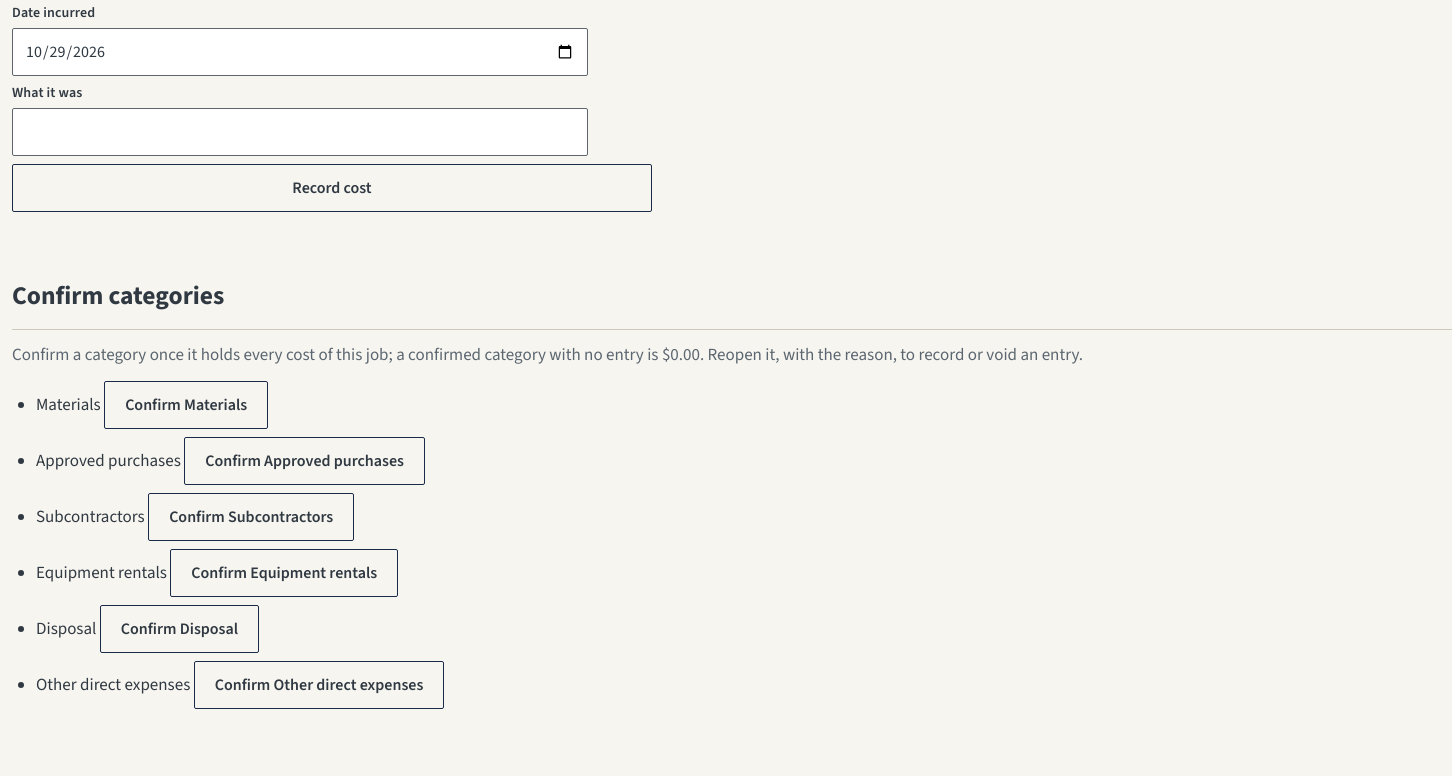
[HH-FIN-17][HH-DATA-10][T73] the job cost page › names a refusal in words
The image size is (1452, 776).
(page scrolled)
Step 1. Click the button "Confirm Materials" → (186, 405), box [104, 381, 268, 429]
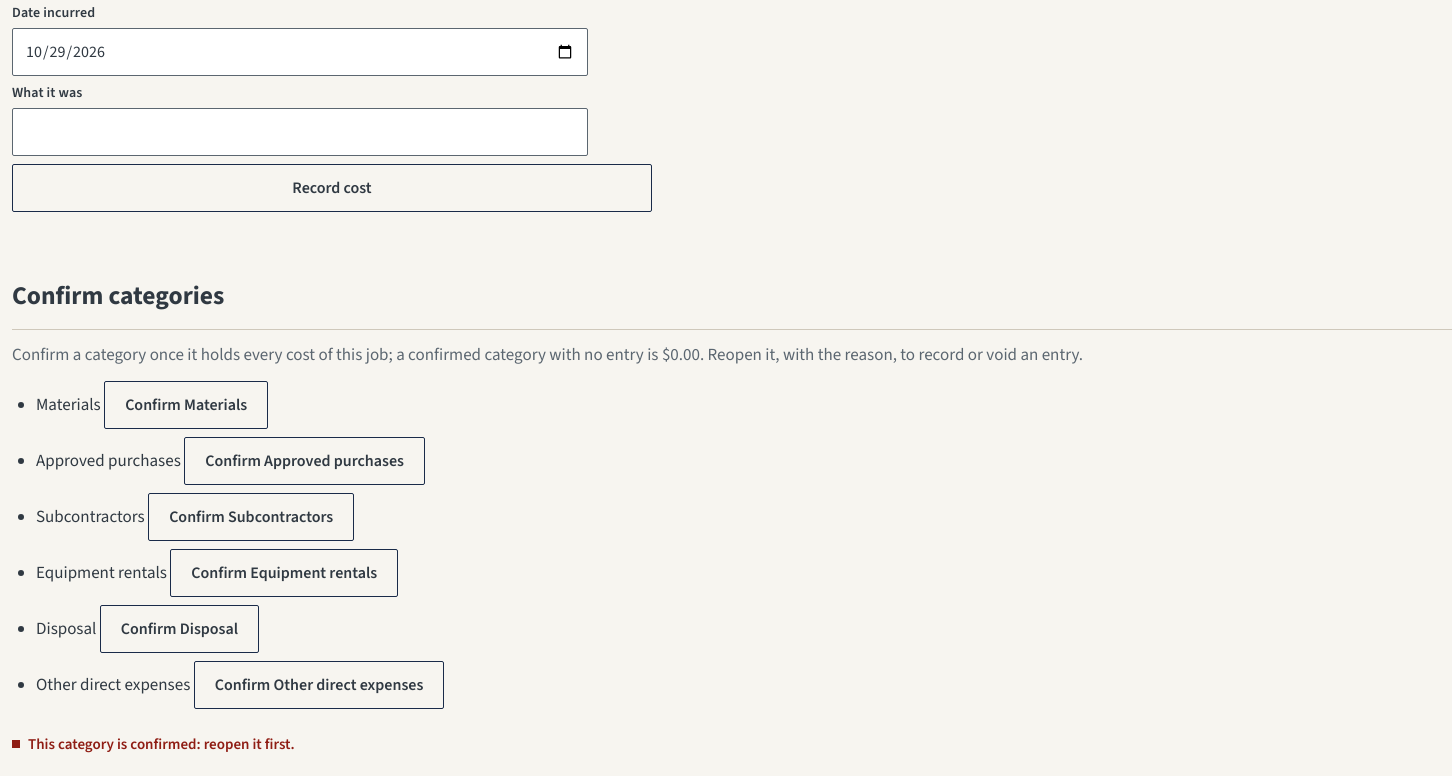
Expected: the message reads "This category is confirmed: reopen it first.", [28, 734, 295, 755]
